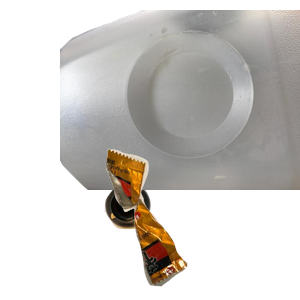glass: (102, 181, 246, 300)
paper: (56, 40, 229, 166)
plastic: (60, 10, 300, 190)
trash: (103, 147, 300, 300)
